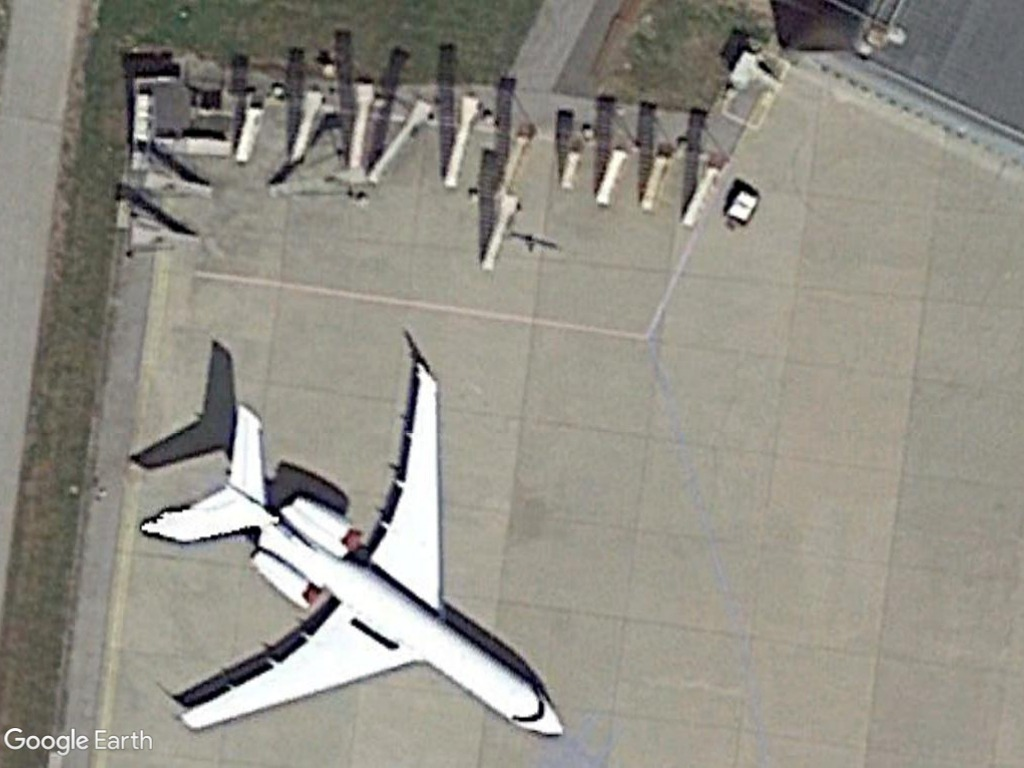chartered: (137, 355, 572, 746)
